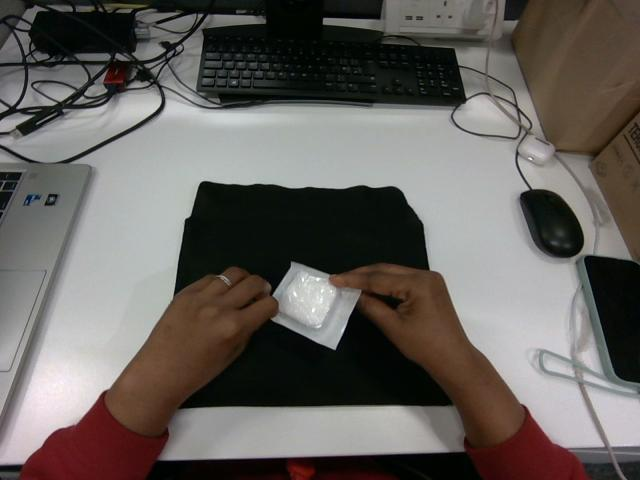gauze: (272, 262, 360, 349)
